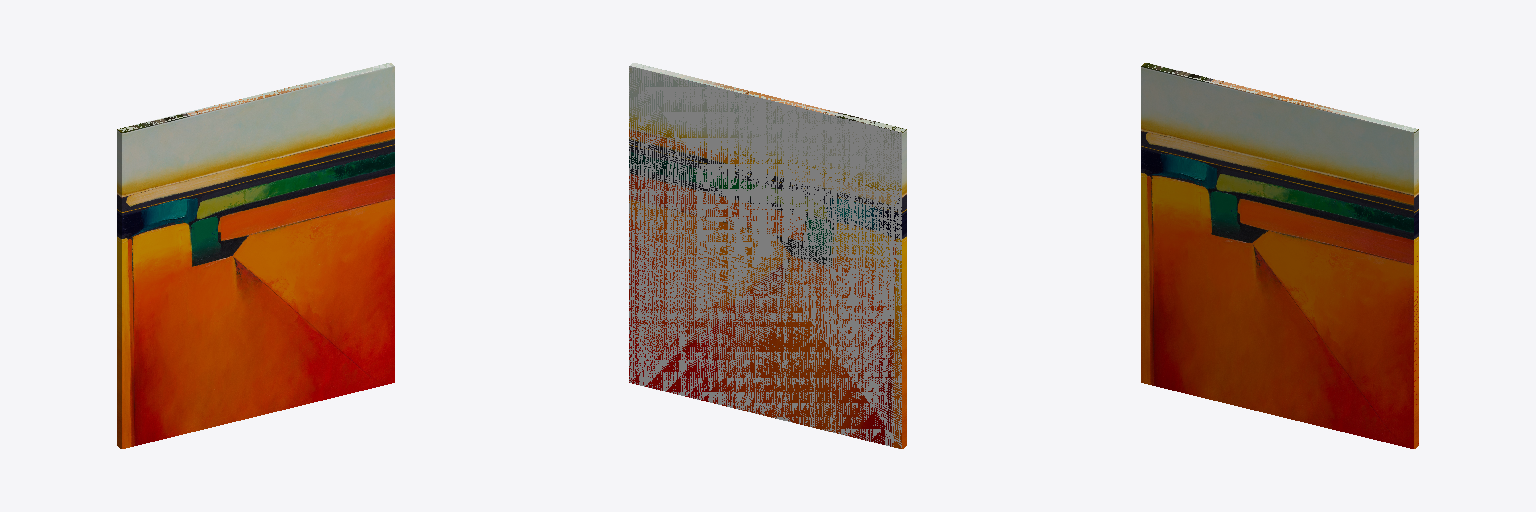
The picture shows the model from 3 angles: view 1: azimuth 30°, elevation 25°; view 2: azimuth 150°, elevation 25°; view 3: azimuth 330°, elevation 25°; orthographic projection.
Parts seen in each view (by area): view 1: Mesh1 Group1 Model; view 2: Mesh1 Group1 Model; view 3: Mesh1 Group1 Model.
Boxes of the visible parts, x1=… form: Mesh1 Group1 Model: x1=117, y1=63, x2=394, y2=448; Mesh1 Group1 Model: x1=629, y1=63, x2=906, y2=448; Mesh1 Group1 Model: x1=1141, y1=63, x2=1418, y2=448.
Bounding box in the file's own units: 1.37 × 1.52 × 0.04.
Materials: 2 (1 with a texture image).